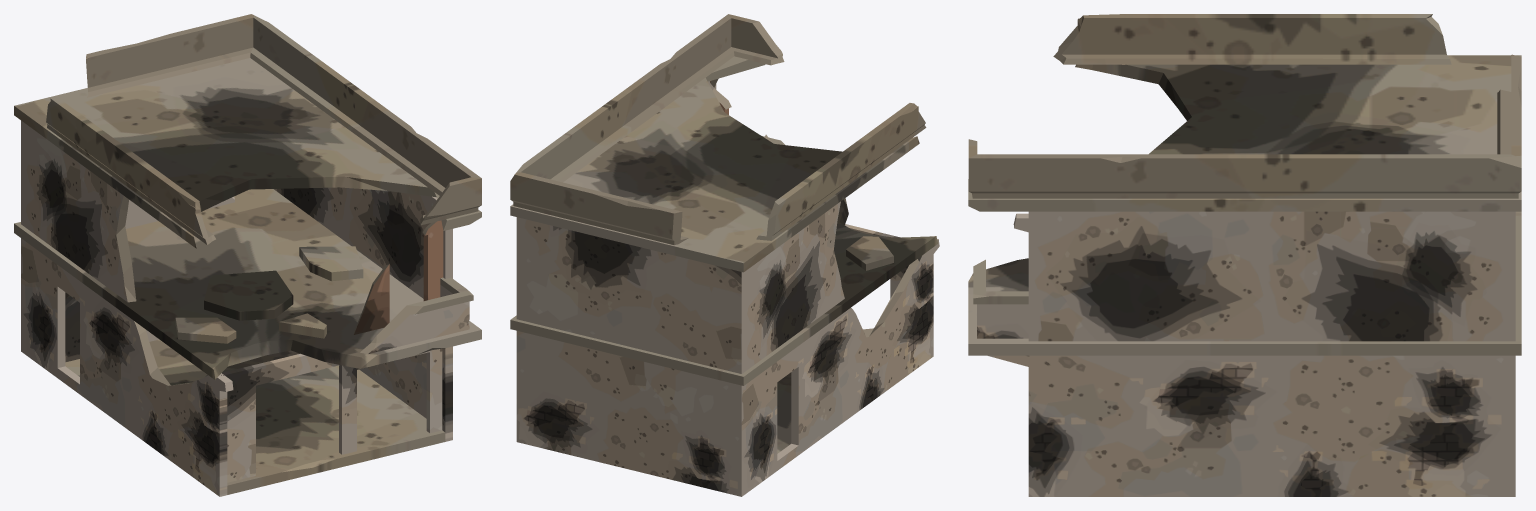
The model's file is SM_Bld_Shop_10_Destroyed.glb.
3 renders of one model, left to right at view 1: azimuth 30°, elevation 25°; view 2: azimuth 150°, elevation 25°; view 3: azimuth 270°, elevation 25°, orthographic. The views are drawn at different scales.
Parts seen in each view (by area): view 1: SM_Bld_Shop_10_Destroyed; view 2: SM_Bld_Shop_10_Destroyed; view 3: SM_Bld_Shop_10_Destroyed.
Part boxes in pixels (bbox=[...]): SM_Bld_Shop_10_Destroyed: bbox=[14, 14, 481, 496]; SM_Bld_Shop_10_Destroyed: bbox=[510, 14, 939, 496]; SM_Bld_Shop_10_Destroyed: bbox=[968, 14, 1521, 496].
Size of the model in its own units: 7.02 by 7.73 by 11.36.
Materials: 1 (1 with a texture image).
